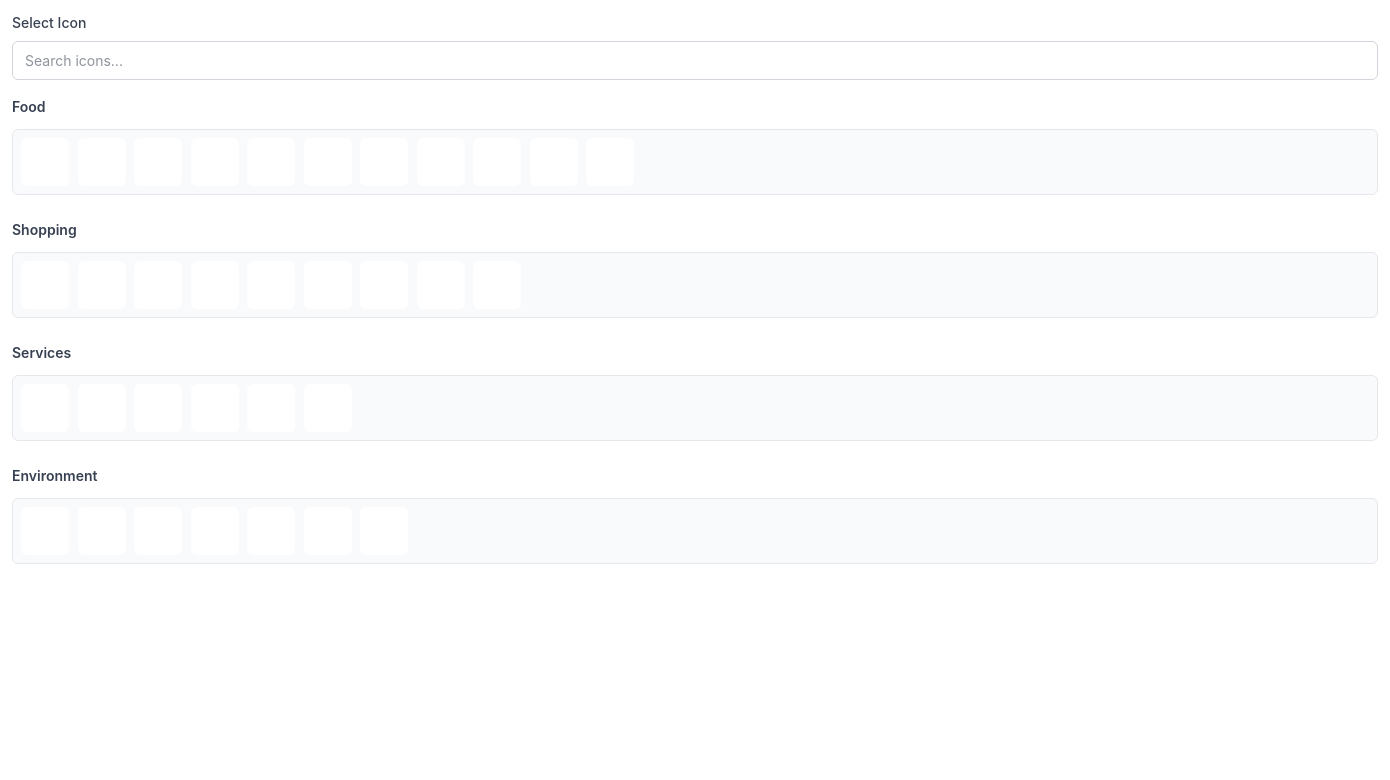
Test: IconSelector › Search Functionality › displays search results
The width and height of the screenshot is (1390, 780).
Type "recycle" into the field labelled "Select Icon" at (695, 60), box [12,41,1378,80]
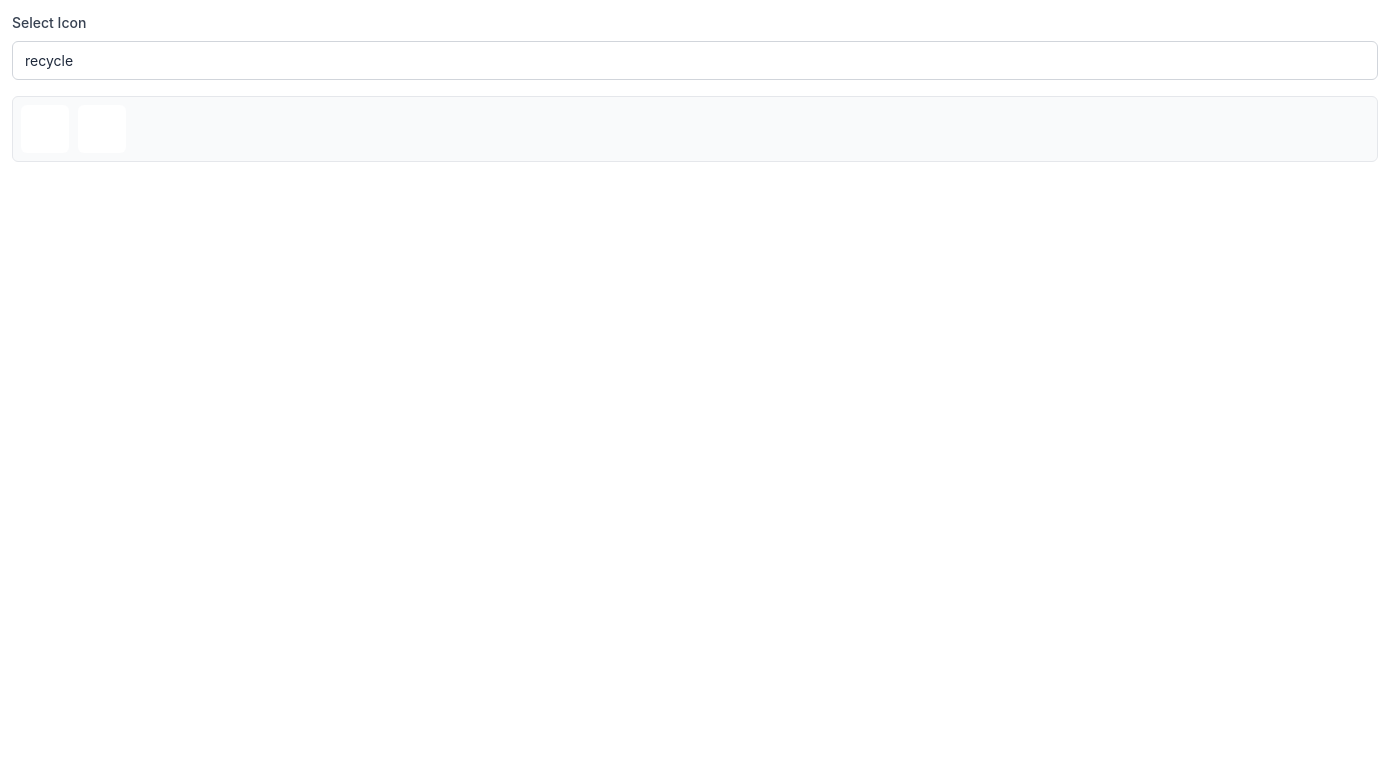
Result: the element with test id "search-results" is shown at [12,96,1378,162]
